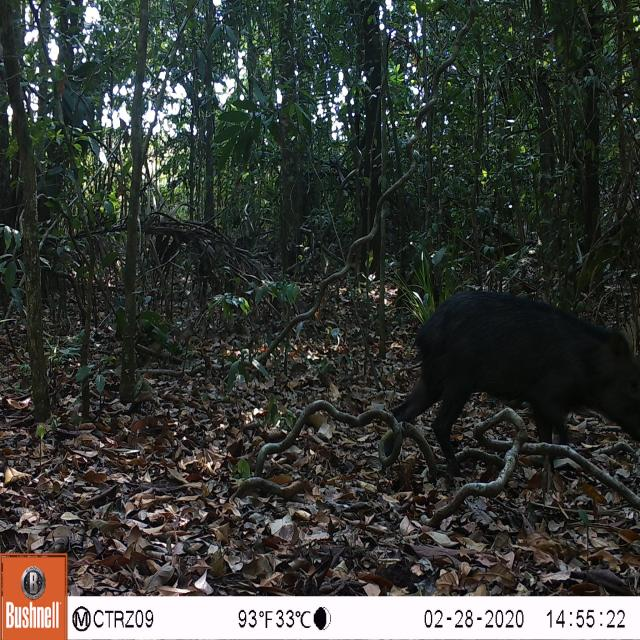Collared Peccary: (390, 276, 640, 475)
